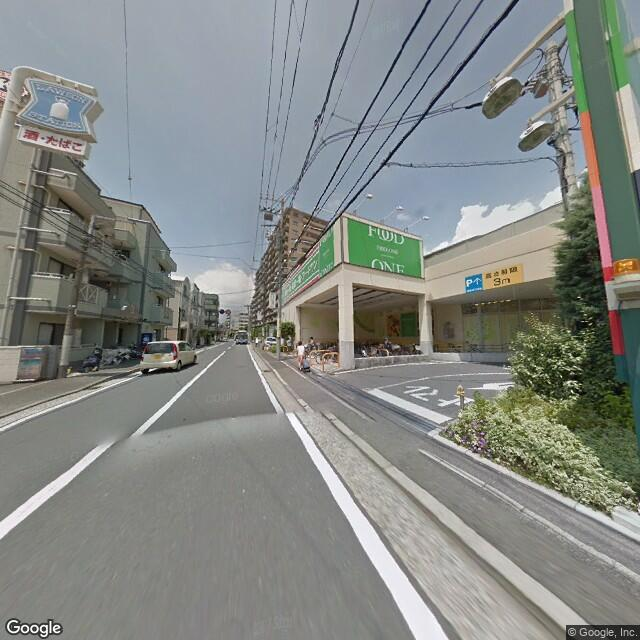lawson: (22, 72, 90, 134)
